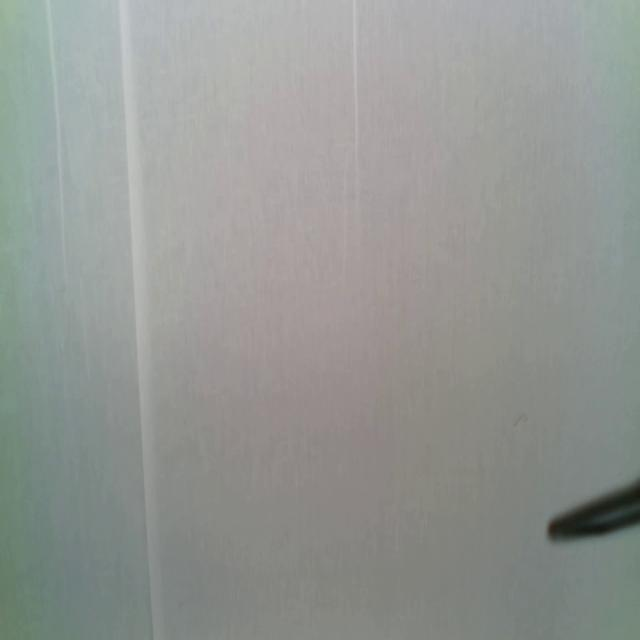crease: (118, 0, 156, 637), (47, 0, 67, 279), (352, 0, 362, 273)
